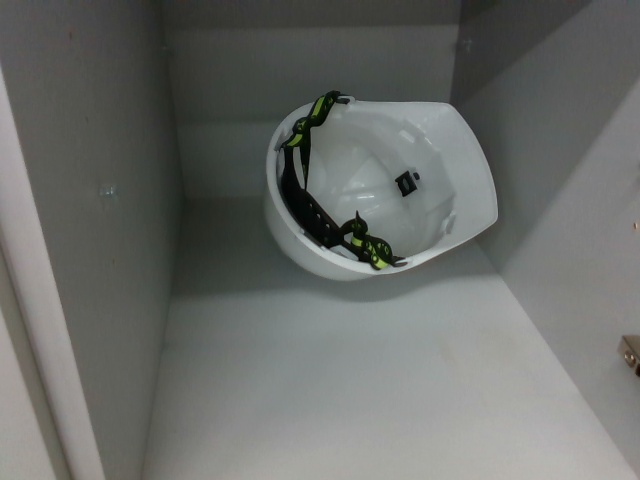helmet: (258, 87, 505, 287)
